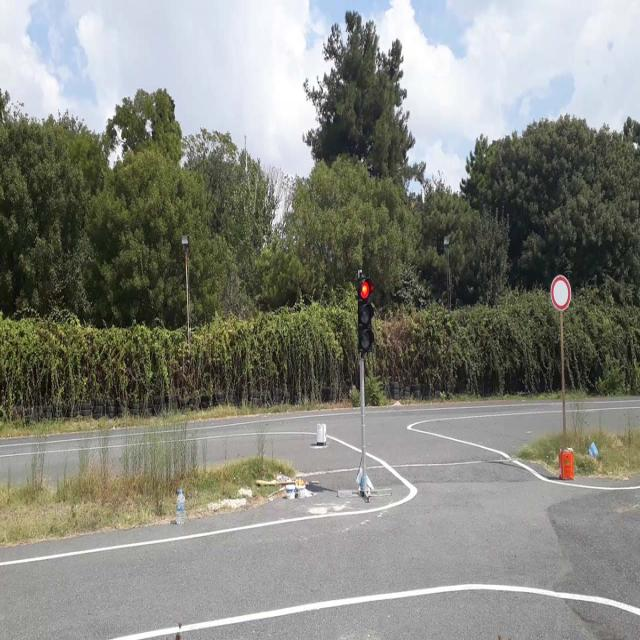kirmizi: (358, 277, 373, 352)
